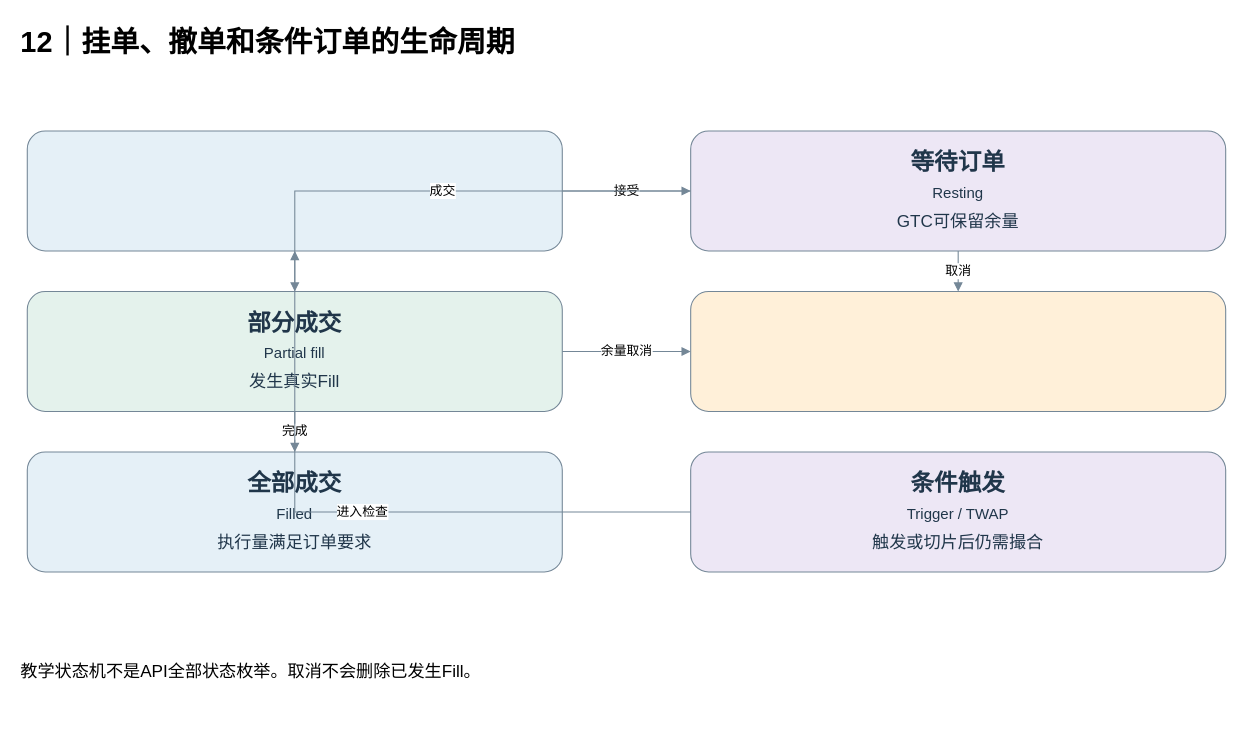
Image size: 1252x738. Some labels were removed from this diagram. Each missing label, with the box of its shape:
业务接受 Accepted / Rejected 检查权限与金融约束: (26, 130, 562, 251)
余量终止 Canceled remainder IOC或撤单等路径: (690, 291, 1226, 411)
